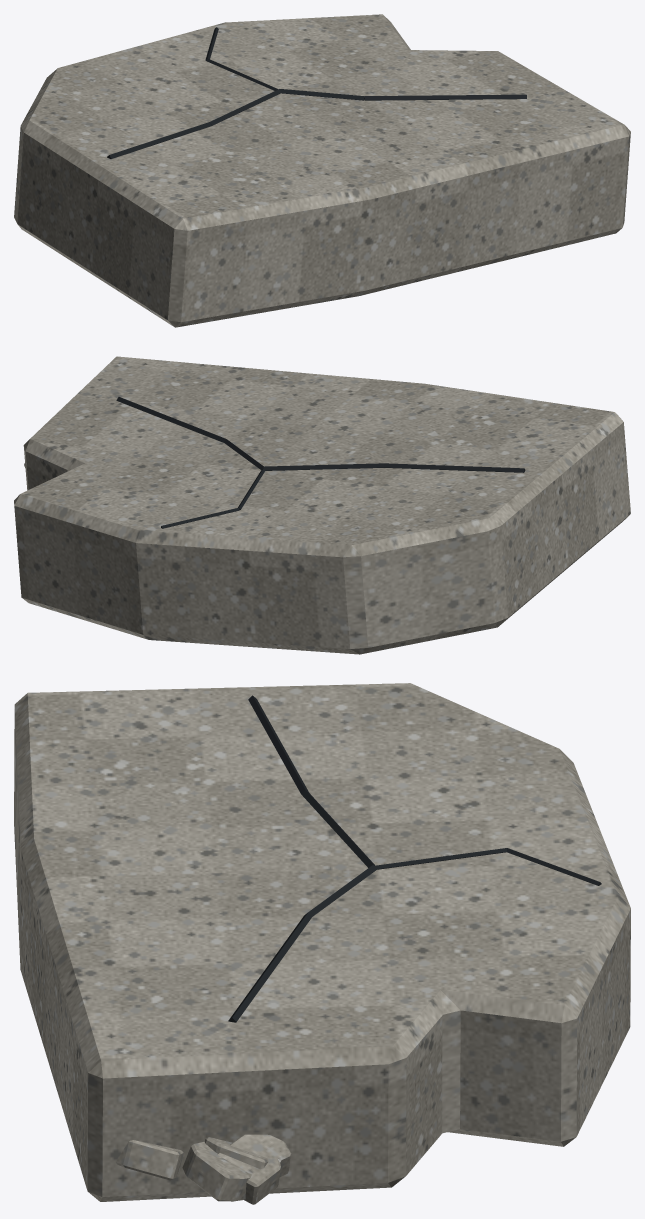
File: cracked_slab_02.glb
3 renders of one model, top to bottom at view 1: azimuth 30°, elevation 25°; view 2: azimuth 150°, elevation 25°; view 3: azimuth 270°, elevation 25°, orthographic. The views are drawn at different scales.
Parts seen in each view (by area): view 1: cracked_slab_02__m7_concrete, cracked_slab_02__m7_dark_polymer; view 2: cracked_slab_02__m7_concrete, cracked_slab_02__m7_dark_polymer; view 3: cracked_slab_02__m7_concrete, cracked_slab_02__m7_dark_polymer.
Boxes of the visible parts, x1=… form: cracked_slab_02__m7_concrete: x1=14, y1=14, x2=630, y2=327; cracked_slab_02__m7_dark_polymer: x1=107, y1=27, x2=526, y2=158; cracked_slab_02__m7_concrete: x1=14, y1=356, x2=630, y2=654; cracked_slab_02__m7_dark_polymer: x1=116, y1=397, x2=525, y2=528; cracked_slab_02__m7_concrete: x1=14, y1=683, x2=630, y2=1204; cracked_slab_02__m7_dark_polymer: x1=228, y1=695, x2=601, y2=1022.
Size of the model in its own units: 1.17 by 0.3045 by 0.8361.
2 materials, 1 textured.
